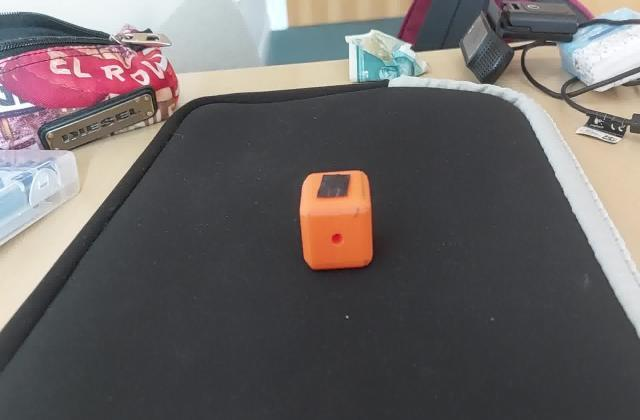black: (314, 174, 354, 203)
cube: (296, 168, 374, 274)
